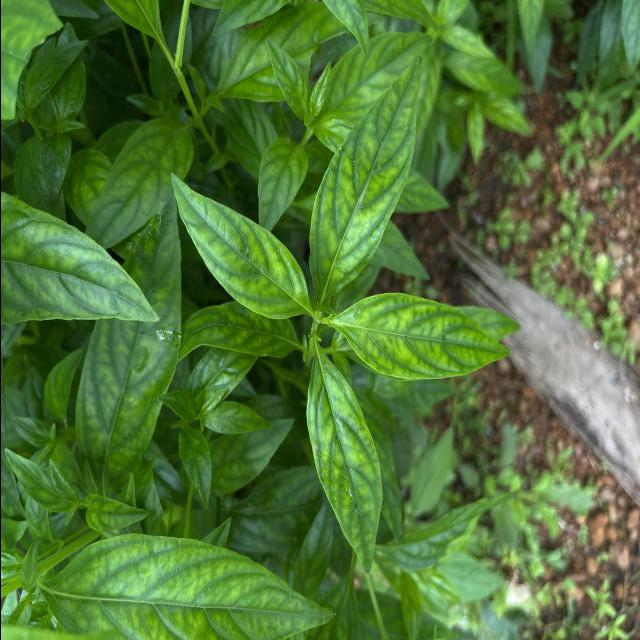Andrographis paniculata: (43, 527, 331, 640), (305, 49, 430, 308), (68, 218, 184, 487), (162, 159, 311, 322), (302, 354, 386, 581), (332, 290, 511, 382), (82, 115, 195, 252), (253, 136, 310, 240)
